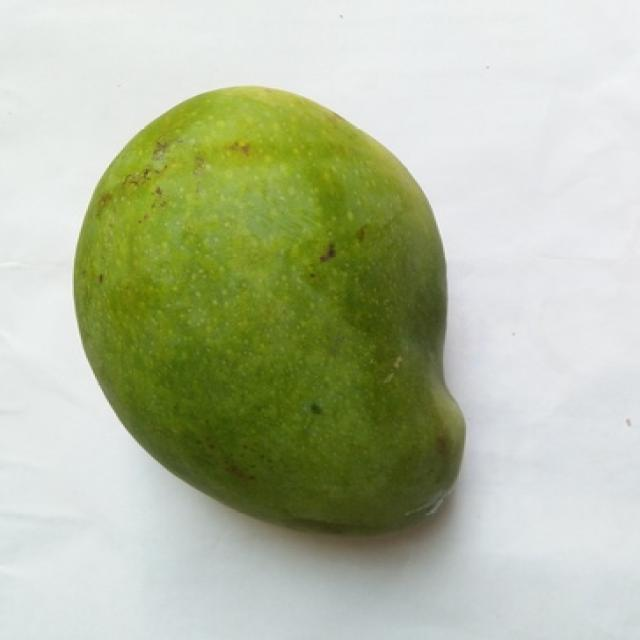Mango: (76, 87, 462, 531)
